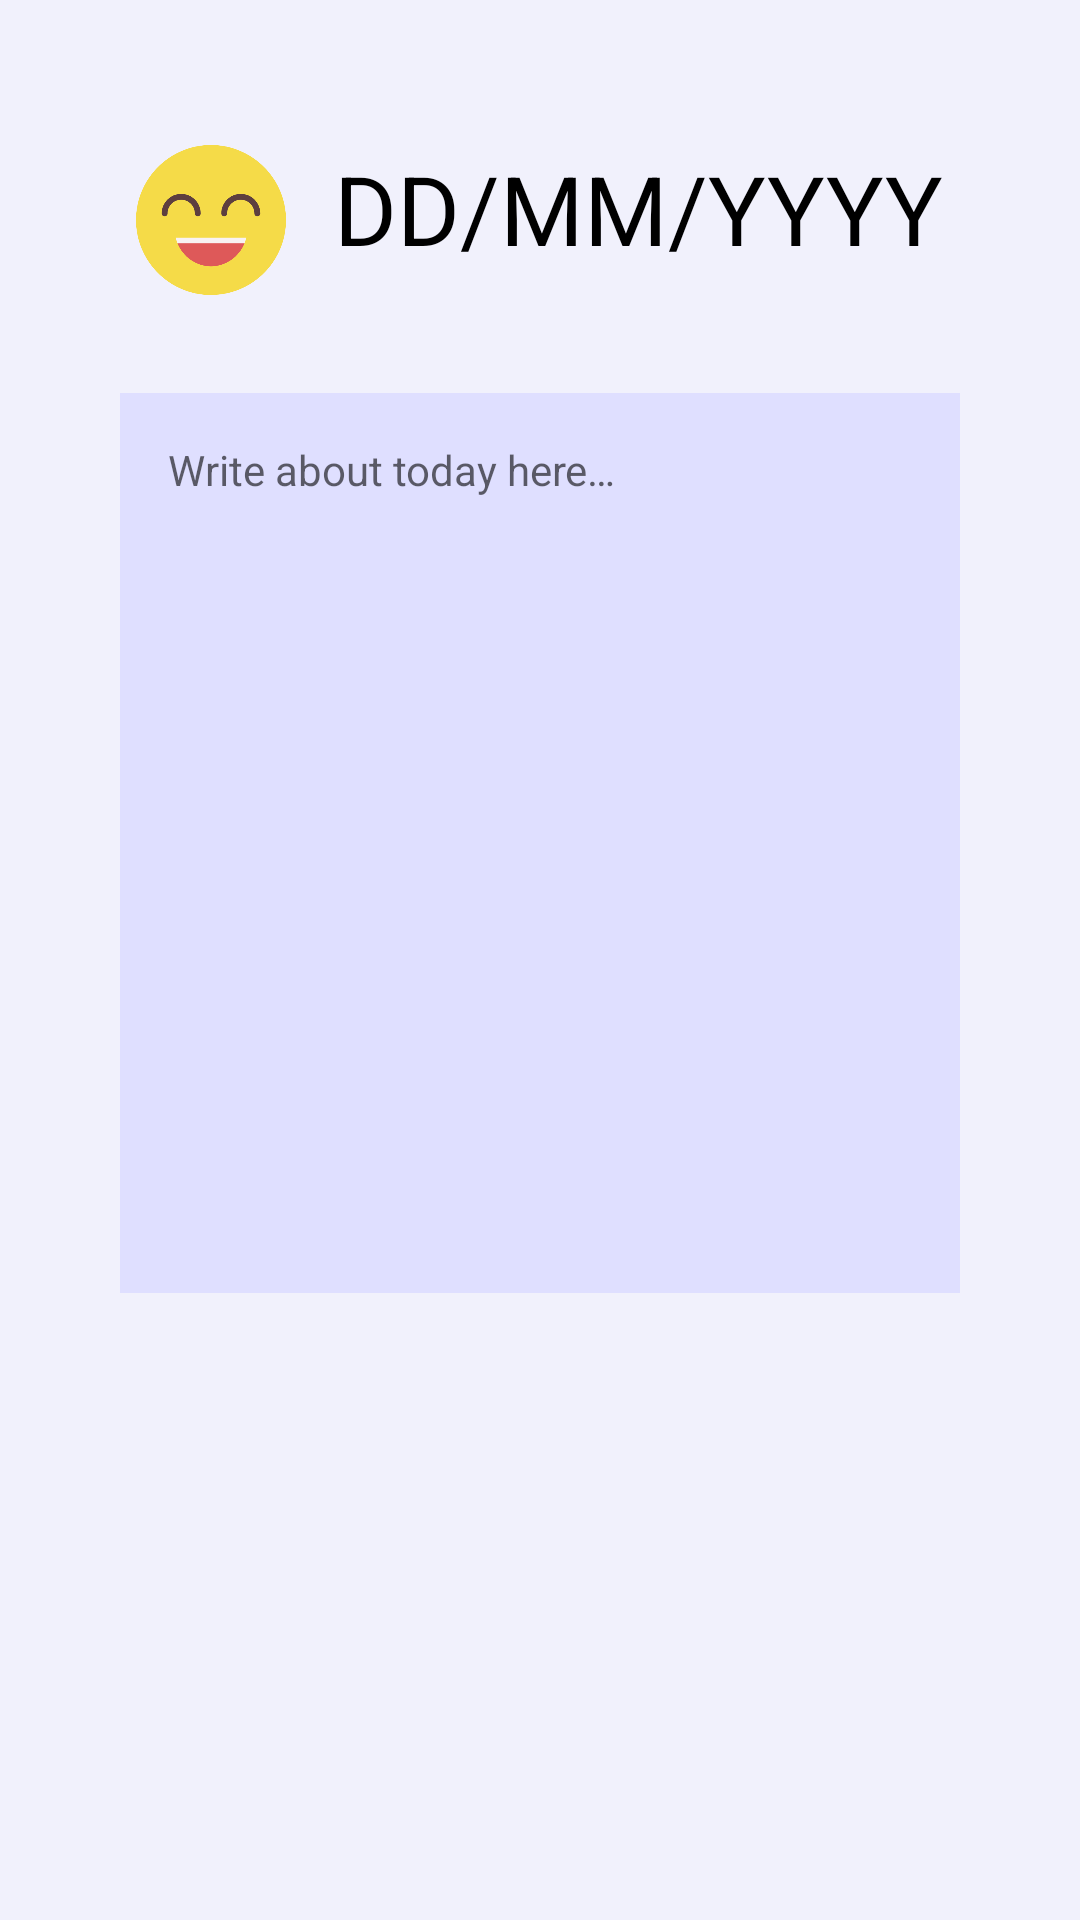

Icons on this 1080×1920 Android screen, each with its box as box=[x1, y1, x2, y2]:
joyful: box=[136, 145, 286, 295]
